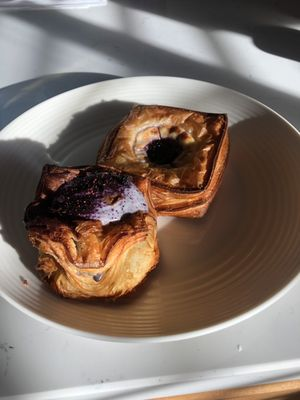sushi: (0, 72, 299, 376)
